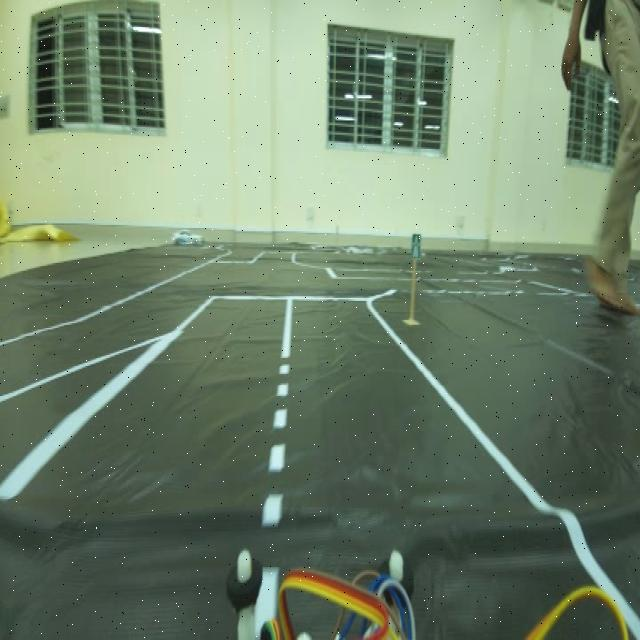highway_entry: (408, 224, 422, 266)
